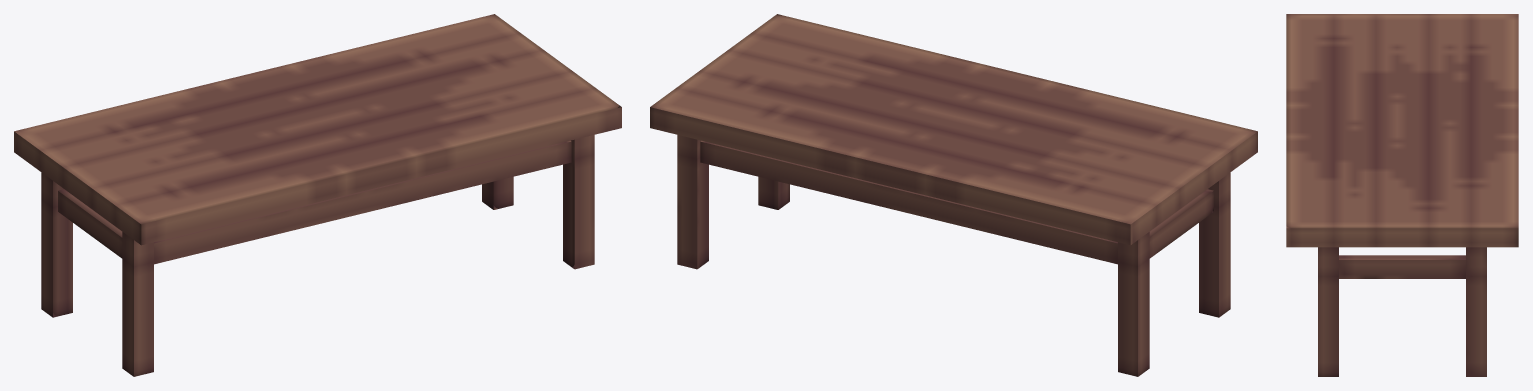
Rendered from table_long1x3.fbx.
3 views of the same model, side by side, from view 1: azimuth 30°, elevation 25°; view 2: azimuth 150°, elevation 25°; view 3: azimuth 270°, elevation 25° (orthographic). The views are drawn at different scales.
Visible parts, largest first — view 1: cube, cube_7, cube_4, cube_6, cube_3, cube_5, cube_1; view 2: cube, cube_8, cube_3, cube_1, cube_4, cube_5, cube_6; view 3: cube, cube_2, cube_1, cube_6.
Boxes of the visible parts, x1,y1,x2,y2 form: cube: (14, 14, 621, 245); cube_7: (154, 140, 571, 264); cube_4: (122, 232, 153, 376); cube_6: (563, 135, 594, 269); cube_3: (41, 172, 72, 317); cube_5: (58, 189, 122, 258); cube_1: (482, 176, 513, 209); cube: (650, 14, 1257, 245); cube_8: (700, 140, 1117, 264); cube_3: (1118, 232, 1149, 376); cube_1: (677, 135, 708, 269); cube_4: (1199, 172, 1230, 317); cube_5: (1149, 189, 1213, 258); cube_6: (758, 176, 789, 209); cube: (1286, 14, 1518, 247); cube_2: (1339, 255, 1465, 278); cube_1: (1466, 247, 1486, 376); cube_6: (1318, 247, 1338, 376).
Bounding box in the file's own units: 300 × 100 × 138.
